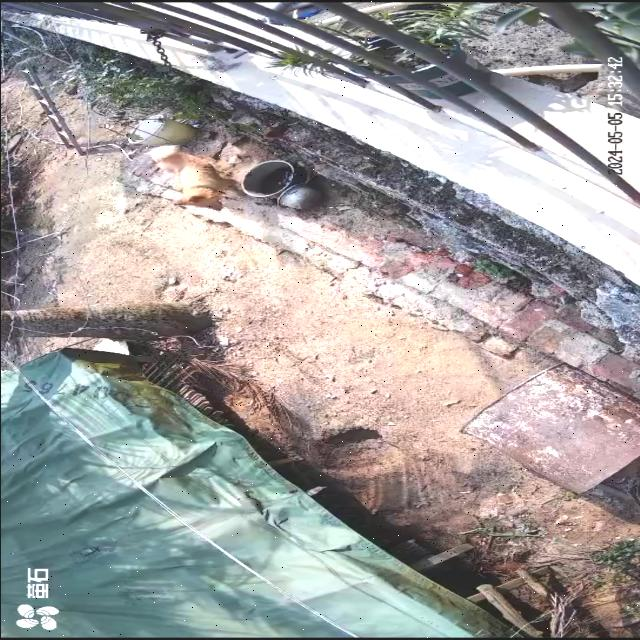dog: (147, 147, 239, 213)
